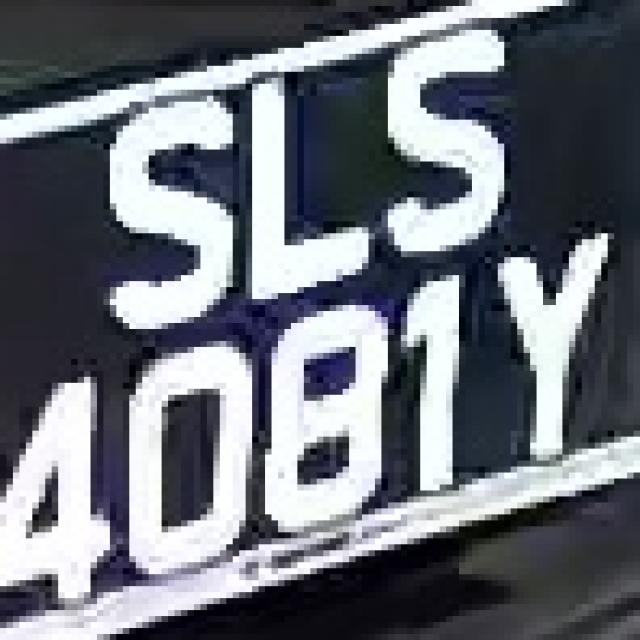0: (110, 335, 271, 586)
1: (414, 252, 472, 502)
4: (20, 335, 116, 634)
8: (239, 305, 401, 580)
L: (226, 30, 382, 293)
S: (97, 66, 252, 341), (375, 6, 530, 263)
Y: (478, 234, 614, 491)
